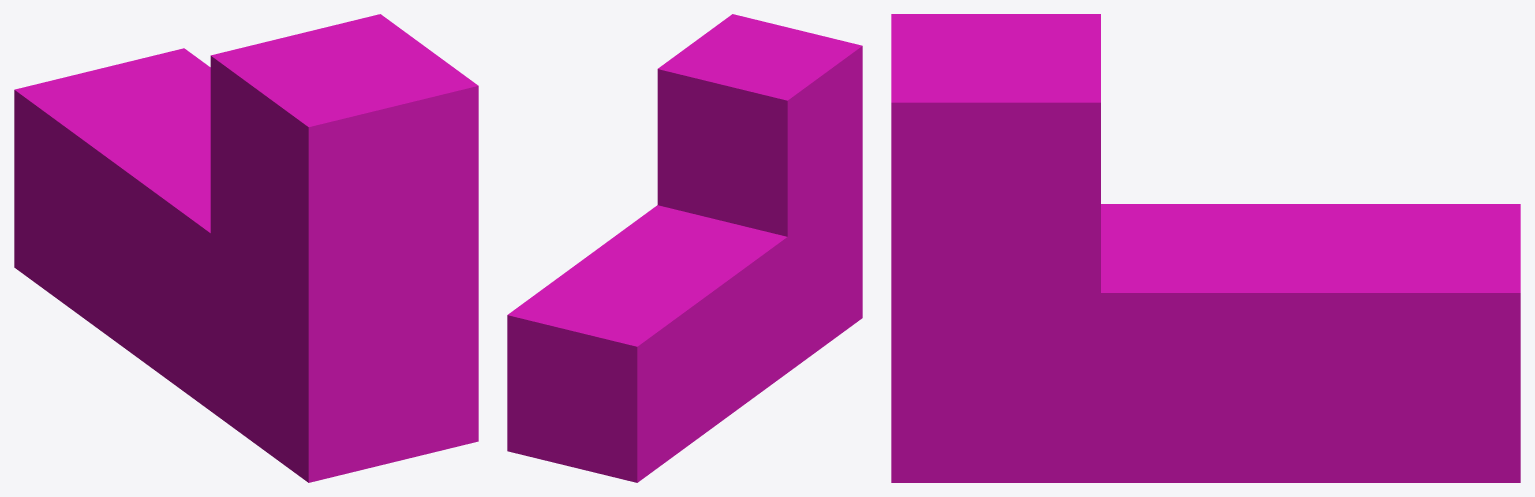
3 renders of one model, left to right at view 1: azimuth 30°, elevation 25°; view 2: azimuth 150°, elevation 25°; view 3: azimuth 270°, elevation 25°, orthographic. The views are drawn at different scales.
Visible parts, largest first — view 1: Cube; view 2: Cube; view 3: Cube.
Boxes of the visible parts, box(x1,y1,x2,y2) form: Cube: box(14, 14, 478, 482); Cube: box(507, 14, 862, 482); Cube: box(891, 14, 1520, 482).
Bounding box in the file's own units: 200 × 400 × 600.
